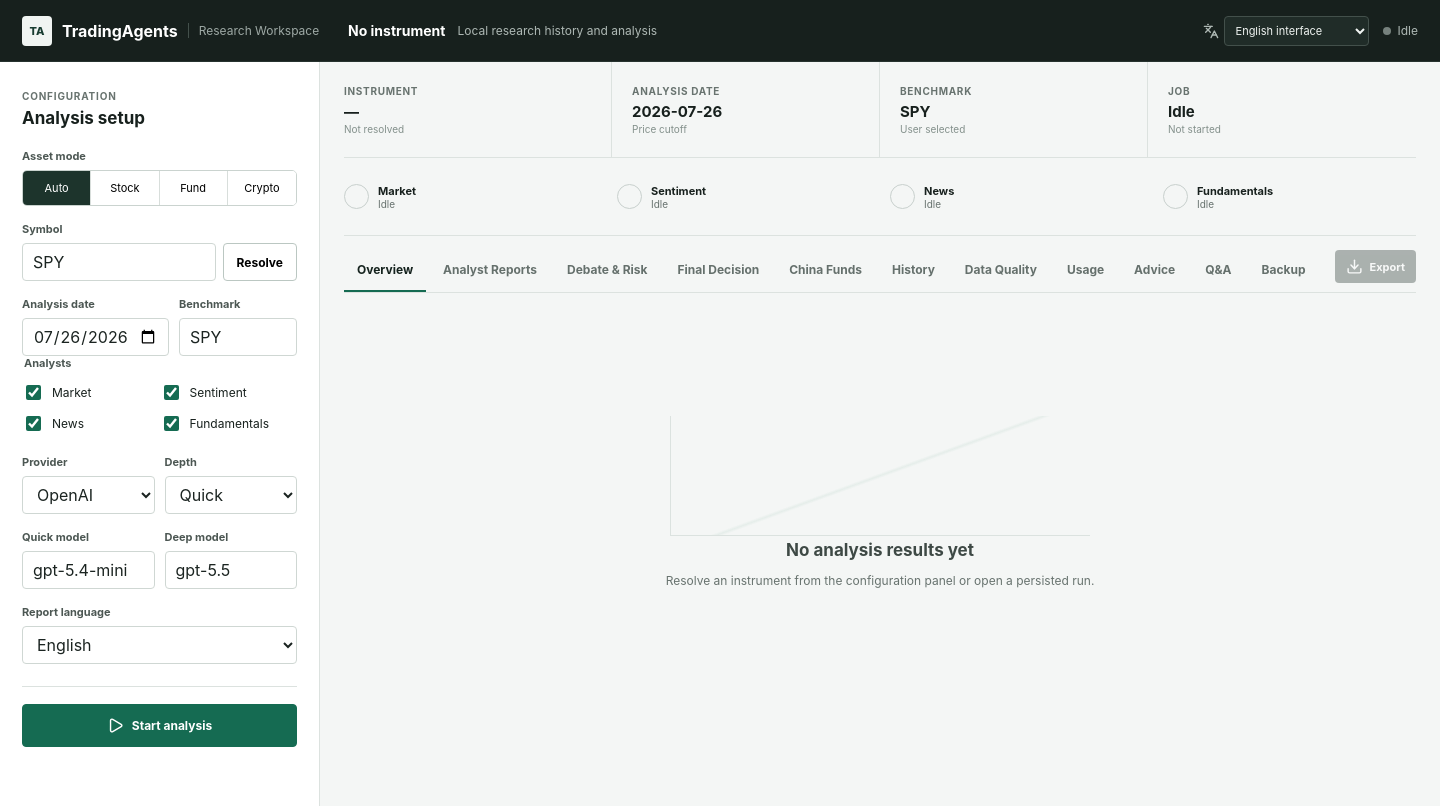
Test: switches and persists interface language without changing report language
This screenshot has width=1440, height=806.
Step 1. Select "Chinese interface" in the dropdown named "Interface language" → (1296, 30), box [1224, 16, 1368, 46]
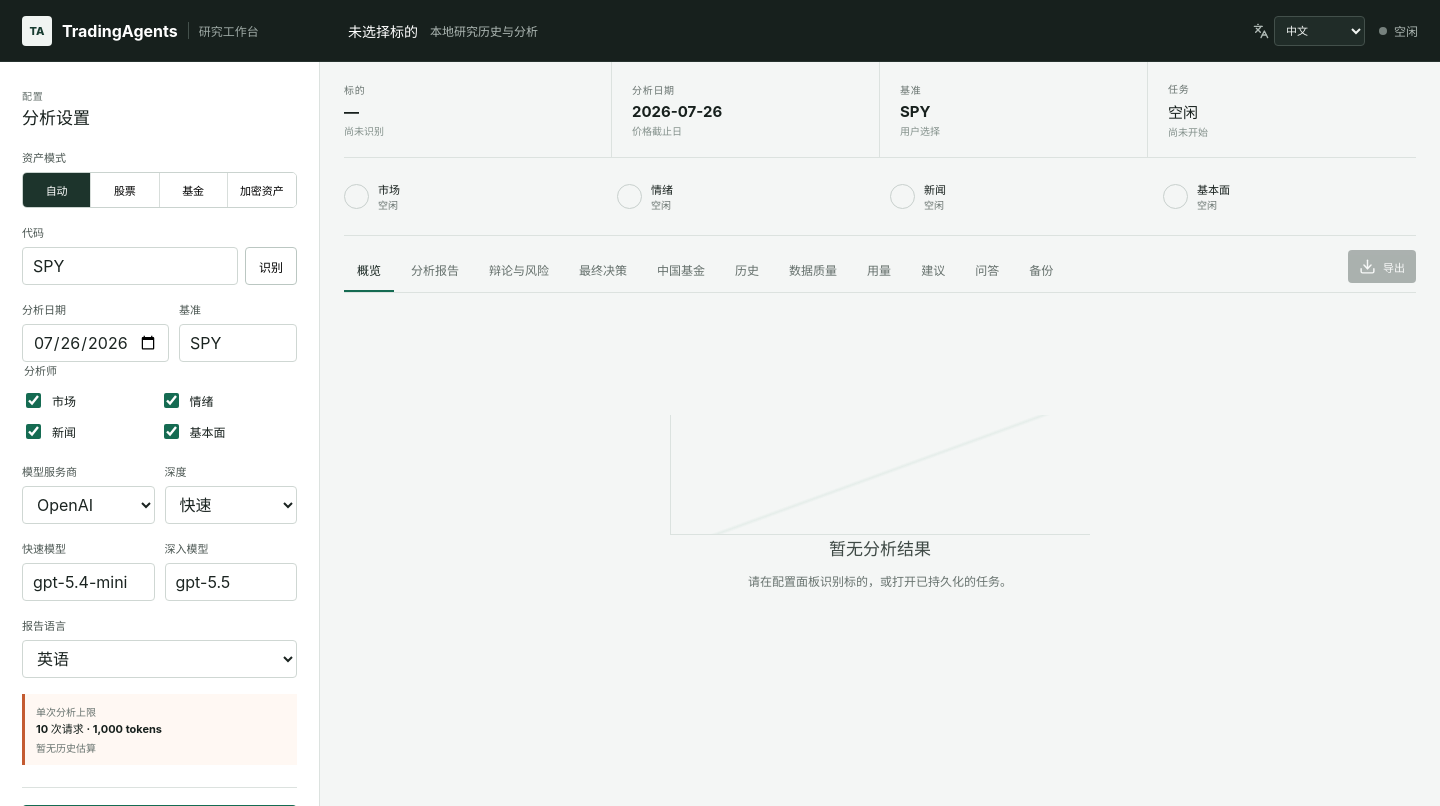
Expected: the dropdown labelled "报告语言" shows "英语", [22, 640, 297, 678]
